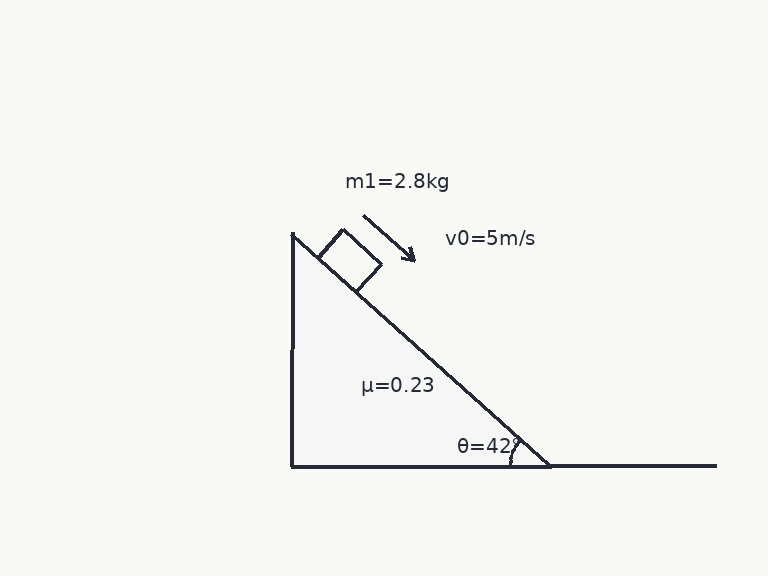block: (316, 227, 383, 293)
ramp: (289, 231, 552, 468)
